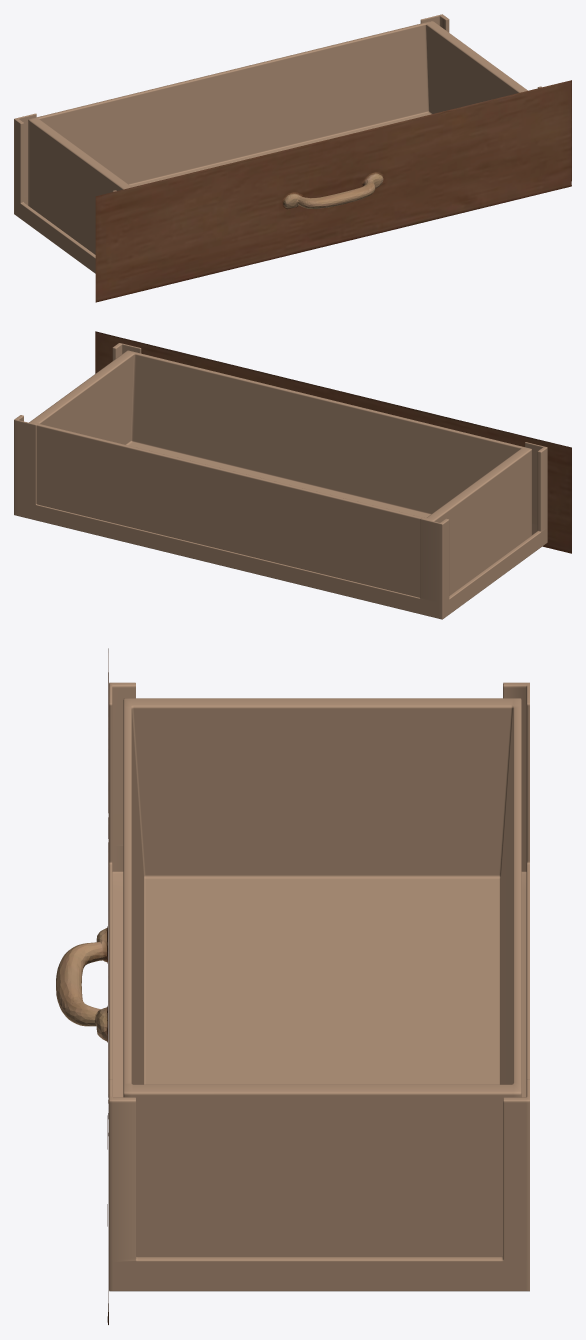
Rendered from drawer_4.glb.
3 renders of one model, top to bottom at view 1: azimuth 30°, elevation 25°; view 2: azimuth 150°, elevation 25°; view 3: azimuth 270°, elevation 25°, orthographic. The views are drawn at different scales.
Visible parts, largest first — view 1: source_front_cap_0, prefab_drawer_body_4; view 2: prefab_drawer_body_4, source_front_cap_0; view 3: prefab_drawer_body_4, source_front_cap_0.
Part boxes in pixels (x1=…): source_front_cap_0: x1=95, y1=80, x2=571, y2=302; prefab_drawer_body_4: x1=14, y1=14, x2=541, y2=273; prefab_drawer_body_4: x1=14, y1=343, x2=547, y2=619; source_front_cap_0: x1=95, y1=331, x2=571, y2=553; prefab_drawer_body_4: x1=109, y1=682, x2=529, y2=1291; source_front_cap_0: x1=56, y1=648, x2=108, y2=1324.
Bounding box in the file's own units: 0.9168 × 0.1953 × 0.3952.
2 materials, 1 textured.
